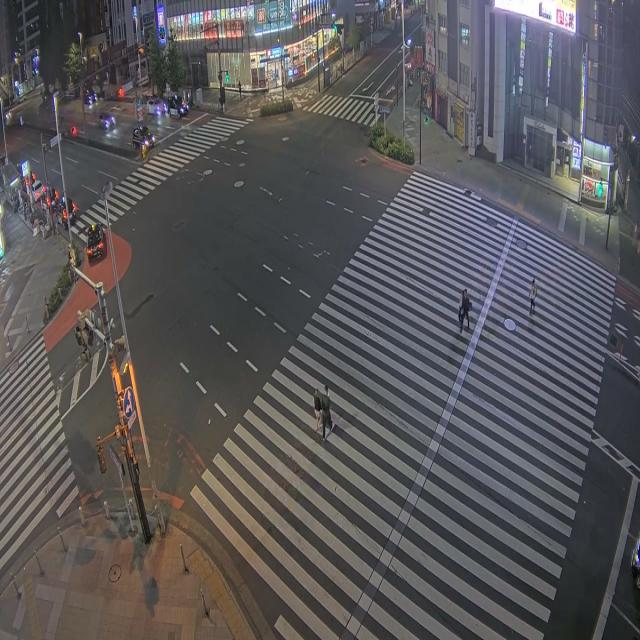car: (86, 224, 105, 262), (56, 196, 77, 225), (132, 126, 155, 148), (167, 95, 187, 117), (631, 540, 639, 589), (146, 99, 167, 116), (32, 180, 46, 202), (99, 113, 115, 130), (83, 89, 96, 106)
